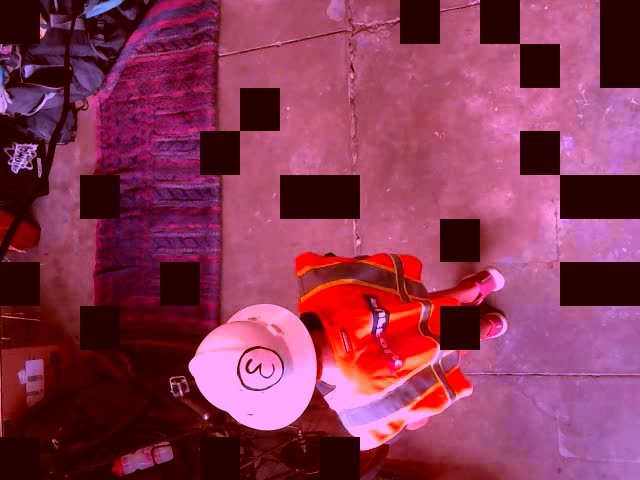three: (236, 346, 283, 391)
